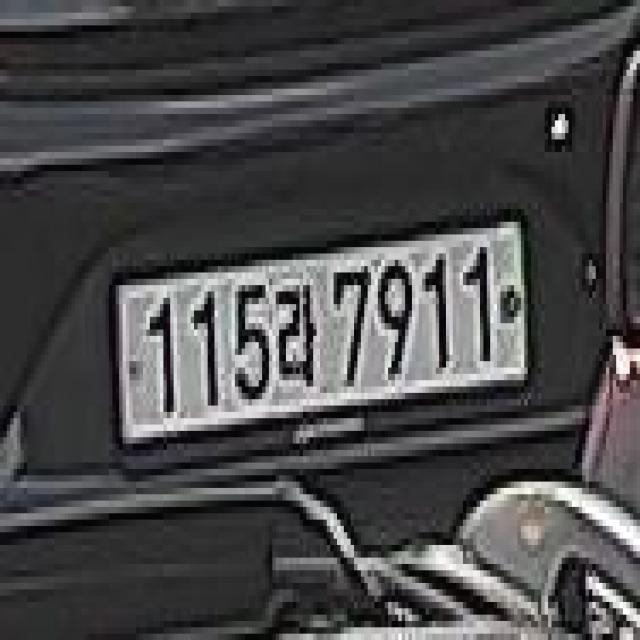illegal_plate: (105, 212, 536, 465)
